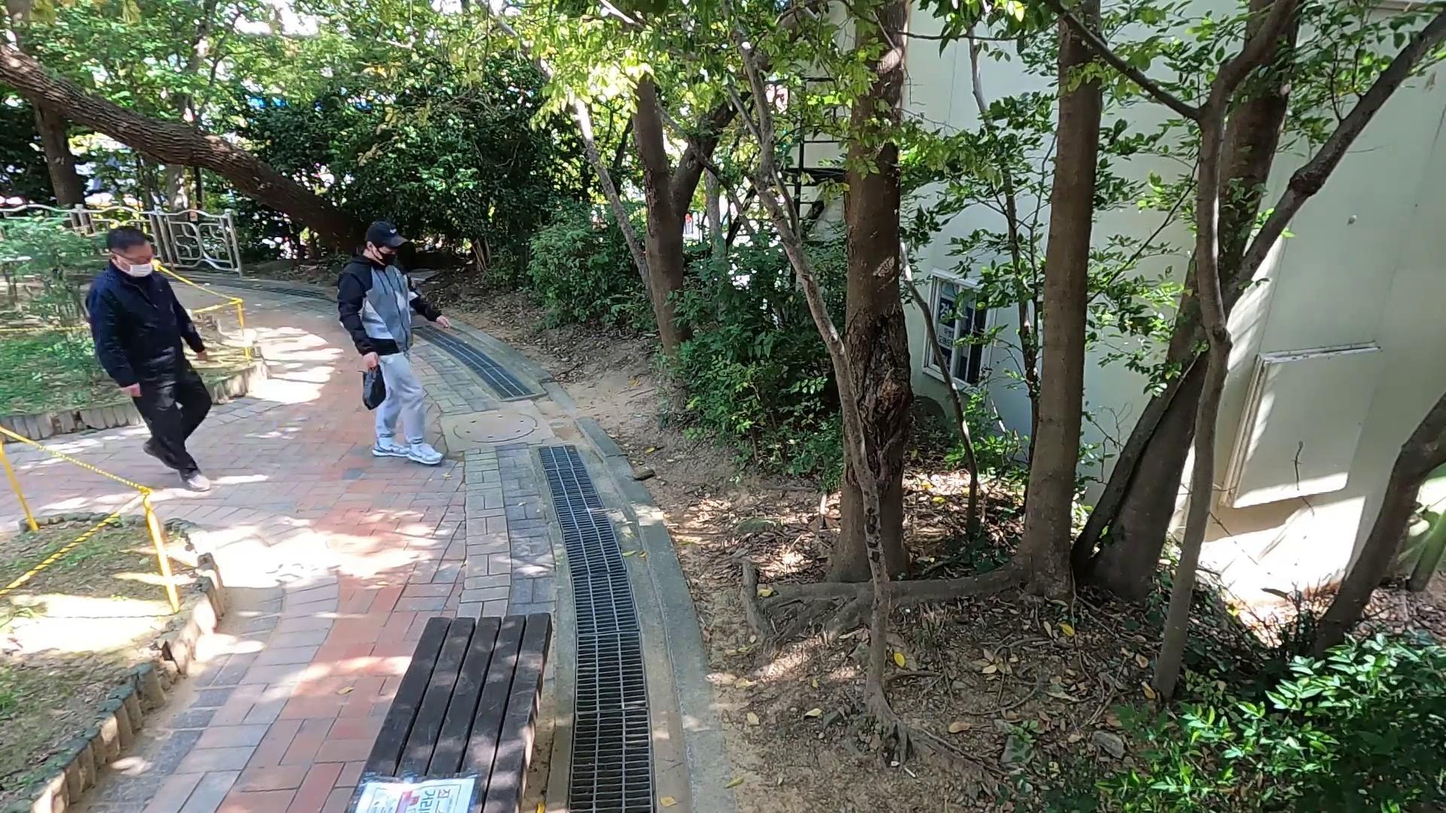person: (85, 222, 219, 497), (335, 215, 460, 467)
trash: (360, 361, 387, 409)
